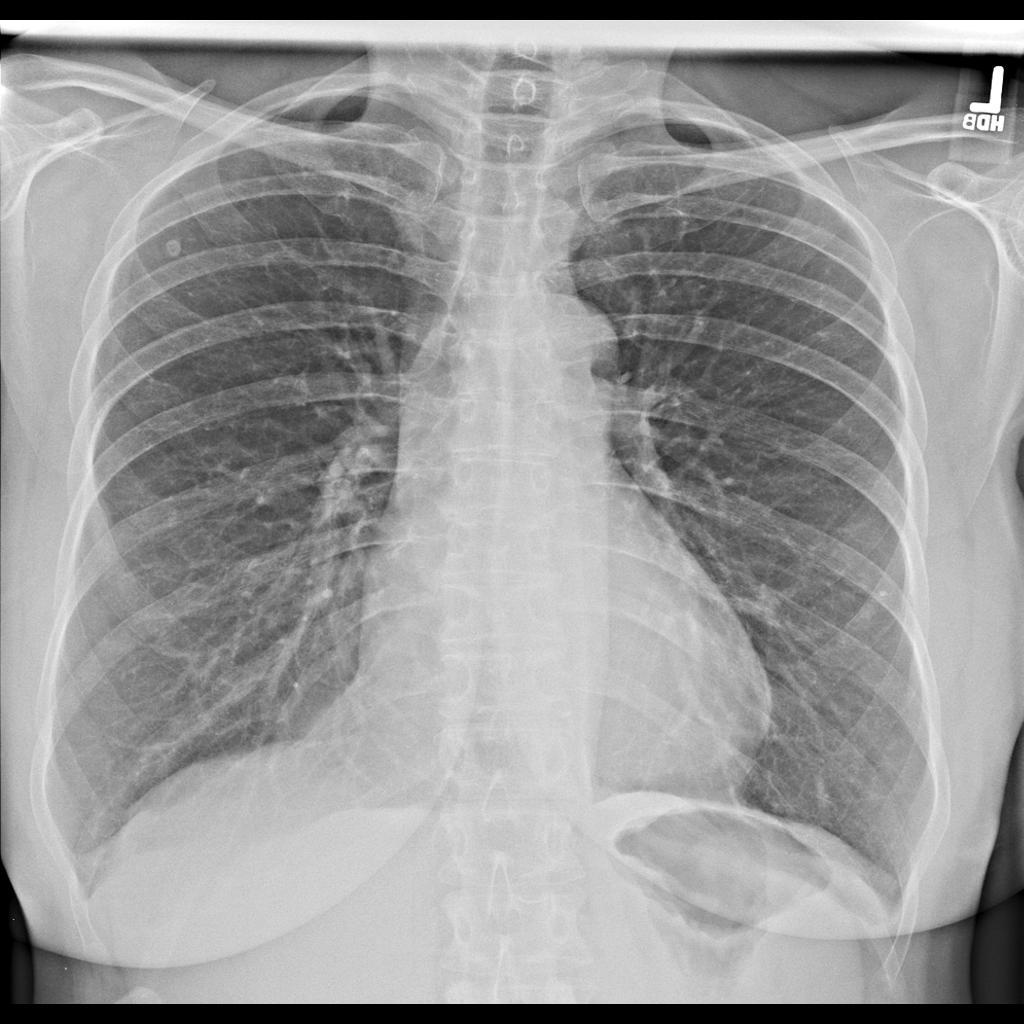Nodule: (156, 231, 193, 268)
